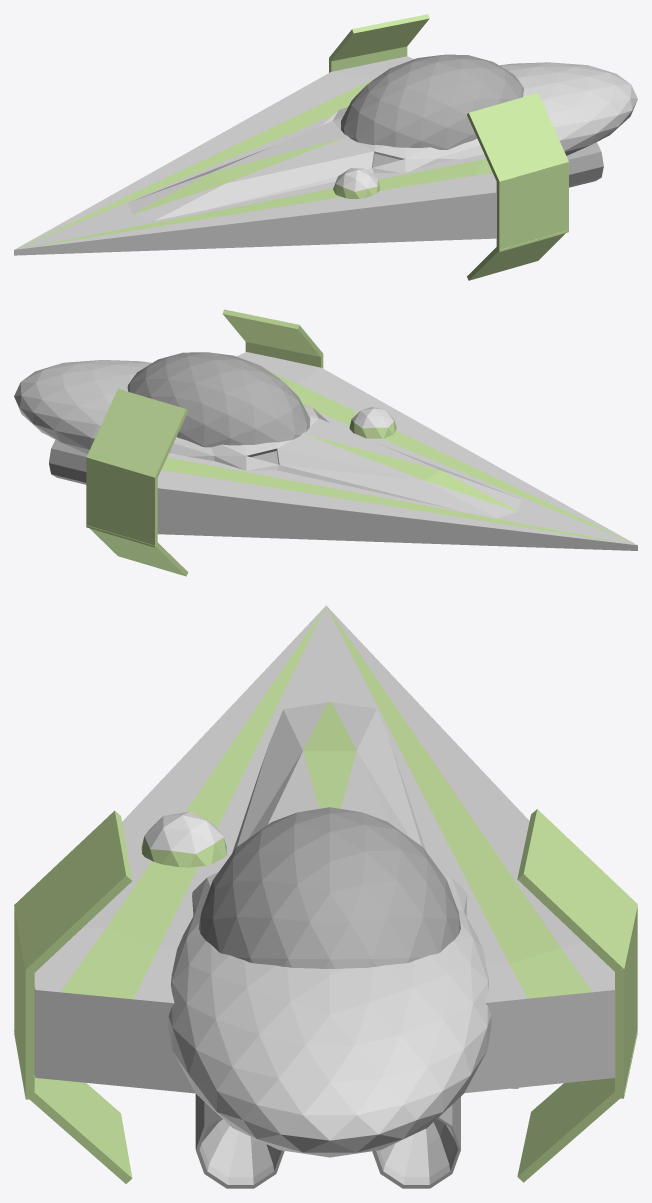
Rendered from kar — fly1.fbx.
The picture shows the model from 3 angles, top to bottom: view 1: azimuth 30°, elevation 25°; view 2: azimuth 150°, elevation 25°; view 3: azimuth 270°, elevation 25°; orthographic projection. The views are drawn at different scales.
Visible parts, largest first — view 1: Cube_2; view 2: Cube_2; view 3: Cube_2.
Boxes of the visible parts, x1,y1,x2,y2 form: Cube_2: (14, 14, 637, 280); Cube_2: (14, 309, 637, 576); Cube_2: (14, 605, 637, 1188).
Size of the model in its own units: 1079 by 282 by 513.
